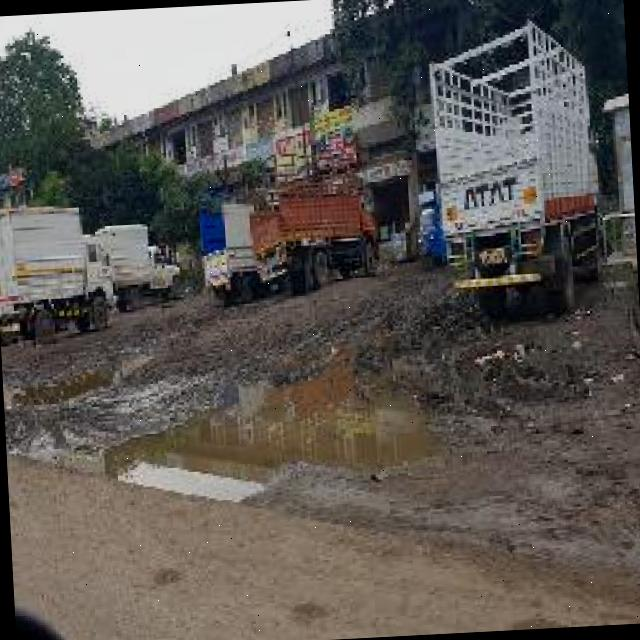stagnation: (92, 344, 442, 510)
